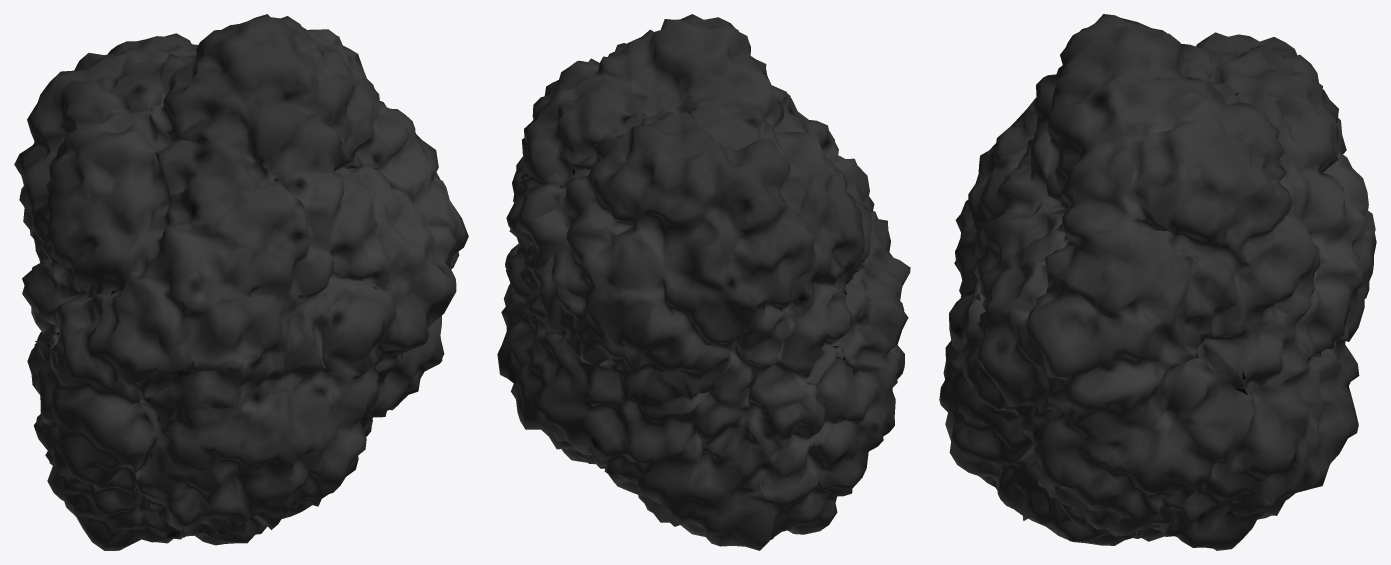
Rendered from lava_3.glb.
3 renders of one model, left to right at view 1: azimuth 30°, elevation 25°; view 2: azimuth 150°, elevation 25°; view 3: azimuth 270°, elevation 25°, orthographic. The views are drawn at different scales.
Parts seen in each view (by area): view 1: LavaRock_web; view 2: LavaRock_web; view 3: LavaRock_web.
Part boxes in pixels (box(x1,y1,x2,y2)): LavaRock_web: box(14, 14, 468, 550); LavaRock_web: box(497, 14, 910, 550); LavaRock_web: box(939, 14, 1376, 550).
Bounding box in the file's own units: 0.3018 × 0.3719 × 0.2703.
Materials: 1 (1 with a texture image).
